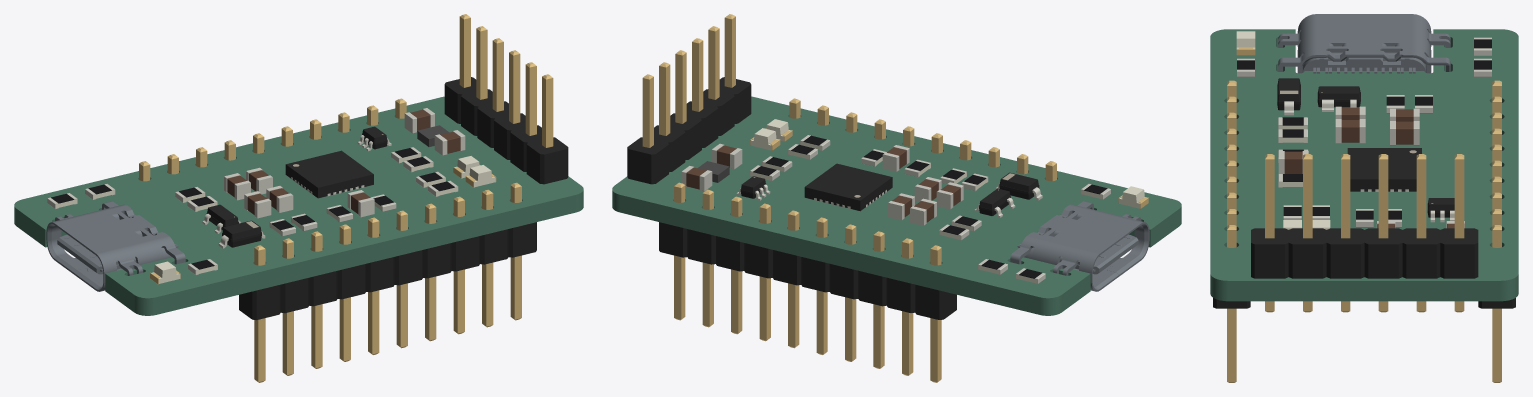
The model's file is USBtoUART.gltf.
3 views of the same model, side by side, from view 1: azimuth 30°, elevation 25°; view 2: azimuth 150°, elevation 25°; view 3: azimuth 270°, elevation 25° (orthographic). The views are drawn at different scales.
Parts seen in each view (by area): view 1: USBtoUART_PCB, PinHeader_1x10_P2.54mm_Vertical001, PinHeader_1x06_P2.54mm_Vertical, SOLID, QFN-28-1EP_5x5mm_P0.5mm_EP3.35x3.35mm, PinHeader_1x10_P2.54mm_Vertical, D_SOD-123, C_0805_2012Metric005, SOT-143, C_0805_2012Metric, C_0805_2012Metric001, C_0805_2012Metric004 (+6 smaller); view 2: USBtoUART_PCB, PinHeader_1x10_P2.54mm_Vertical, PinHeader_1x06_P2.54mm_Vertical, SOLID, QFN-28-1EP_5x5mm_P0.5mm_EP3.35x3.35mm, PinHeader_1x10_P2.54mm_Vertical001, D_SOD-123, SOT-143, C_0805_2012Metric, C_0805_2012Metric005, C_0805_2012Metric001, C_0805_2012Metric004 (+6 smaller); view 3: USBtoUART_PCB, PinHeader_1x06_P2.54mm_Vertical, SOLID, PinHeader_1x10_P2.54mm_Vertical, PinHeader_1x10_P2.54mm_Vertical001, QFN-28-1EP_5x5mm_P0.5mm_EP3.35x3.35mm, SOT-143, D_SOD-123, C_0805_2012Metric003, C_0805_2012Metric006, SOT-363_SC-70-6, C_0805_2012Metric001 (+14 smaller).
Boxes of the visible parts, bbox=[...] form: USBtoUART_PCB: bbox=[14, 96, 583, 315]; PinHeader_1x10_P2.54mm_Vertical001: bbox=[239, 182, 536, 382]; PinHeader_1x06_P2.54mm_Vertical: bbox=[444, 14, 568, 184]; SOLID: bbox=[46, 201, 185, 291]; QFN-28-1EP_5x5mm_P0.5mm_EP3.35x3.35mm: bbox=[285, 150, 373, 198]; PinHeader_1x10_P2.54mm_Vertical: bbox=[139, 98, 406, 181]; D_SOD-123: bbox=[218, 220, 265, 248]; C_0805_2012Metric005: bbox=[434, 130, 465, 155]; SOT-143: bbox=[202, 204, 240, 233]; C_0805_2012Metric: bbox=[404, 108, 434, 133]; C_0805_2012Metric001: bbox=[347, 190, 374, 217]; C_0805_2012Metric004: bbox=[244, 191, 271, 218]; USBtoUART_PCB: bbox=[612, 96, 1181, 315]; PinHeader_1x10_P2.54mm_Vertical: bbox=[659, 182, 956, 382]; PinHeader_1x06_P2.54mm_Vertical: bbox=[627, 14, 751, 184]; SOLID: bbox=[1010, 201, 1149, 291]; QFN-28-1EP_5x5mm_P0.5mm_EP3.35x3.35mm: bbox=[804, 163, 892, 211]; PinHeader_1x10_P2.54mm_Vertical001: bbox=[789, 98, 1056, 181]; D_SOD-123: bbox=[996, 172, 1042, 200]; SOT-143: bbox=[974, 188, 1015, 217]; C_0805_2012Metric: bbox=[681, 166, 712, 191]; C_0805_2012Metric005: bbox=[712, 143, 742, 169]; C_0805_2012Metric001: bbox=[882, 145, 909, 172]; C_0805_2012Metric004: bbox=[936, 182, 963, 209]; USBtoUART_PCB: bbox=[1210, 29, 1518, 301]; PinHeader_1x06_P2.54mm_Vertical: bbox=[1251, 154, 1478, 312]; SOLID: bbox=[1278, 14, 1450, 73]; PinHeader_1x10_P2.54mm_Vertical: bbox=[1478, 80, 1515, 382]; PinHeader_1x10_P2.54mm_Vertical001: bbox=[1213, 80, 1250, 382]; QFN-28-1EP_5x5mm_P0.5mm_EP3.35x3.35mm: bbox=[1347, 148, 1421, 191]; SOT-143: bbox=[1317, 86, 1360, 111]; D_SOD-123: bbox=[1277, 78, 1300, 115]; C_0805_2012Metric003: bbox=[1335, 119, 1365, 143]; C_0805_2012Metric006: bbox=[1390, 121, 1419, 145]; SOT-363_SC-70-6: bbox=[1427, 198, 1454, 222]; C_0805_2012Metric001: bbox=[1278, 151, 1308, 173].
Bounding box in the file's own units: 0.0399 × 0.0188 × 0.0207.
